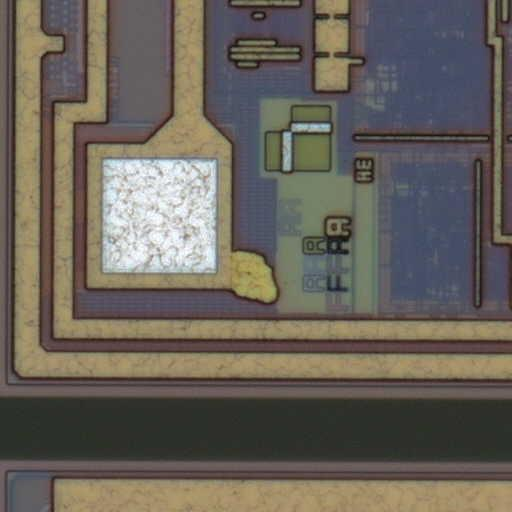BLOCK ETCH: (215, 241, 286, 312)
